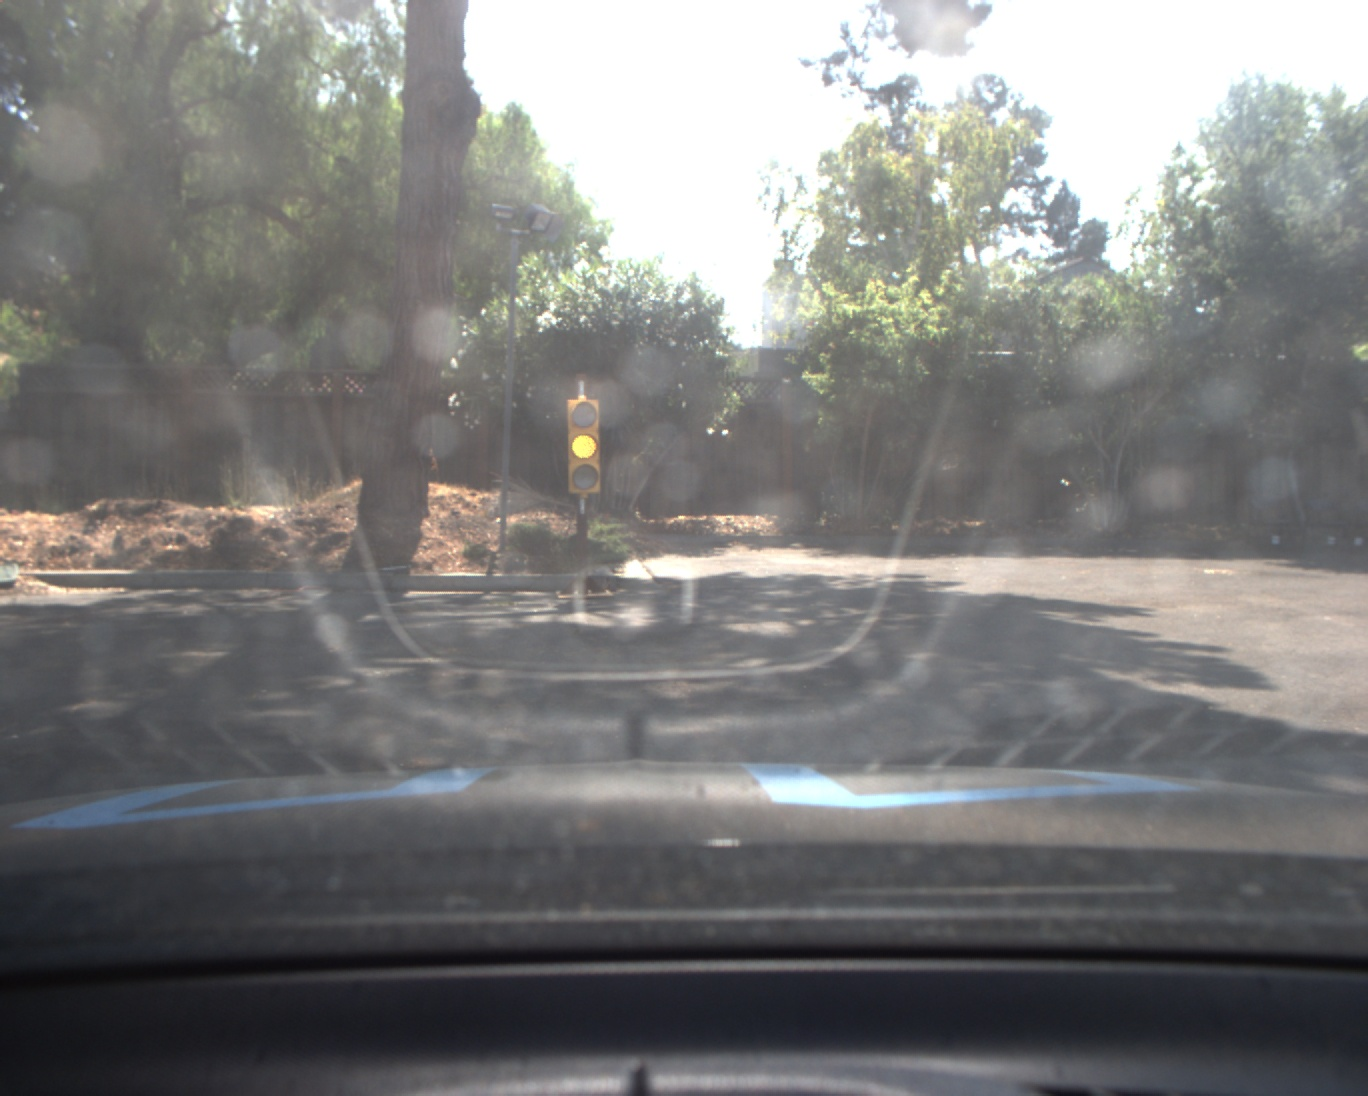yellow: (566, 400, 600, 495)
